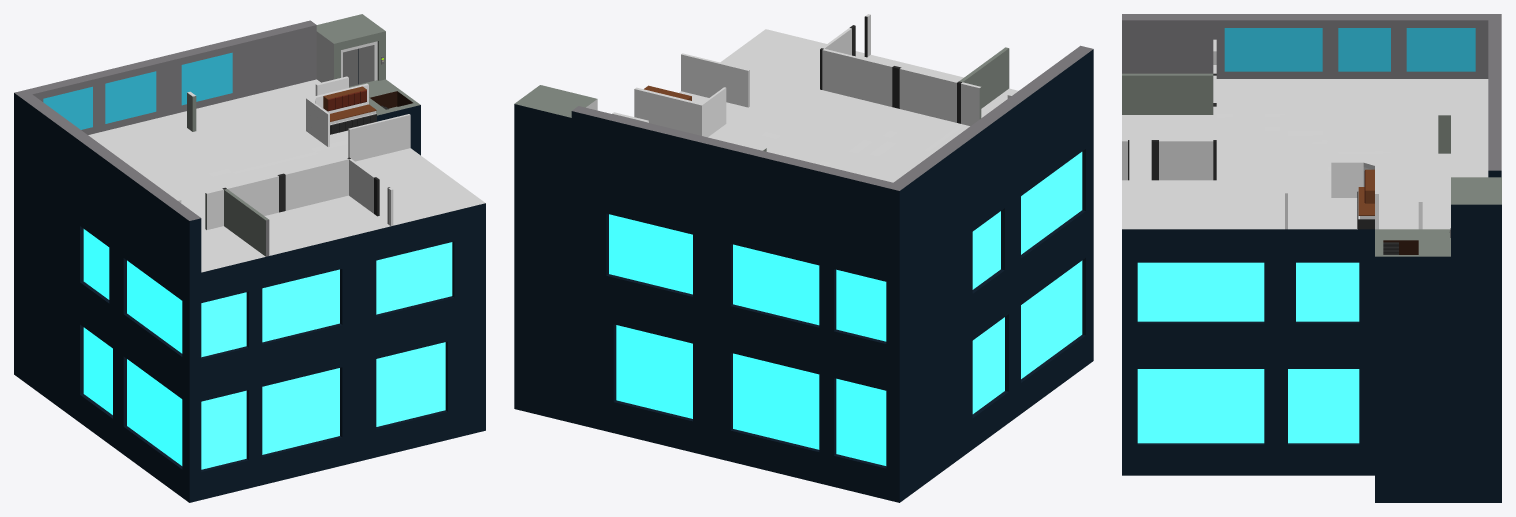
3 renders of one model, left to right at view 1: azimuth 30°, elevation 25°; view 2: azimuth 150°, elevation 25°; view 3: azimuth 270°, elevation 25°, orthographic. The views are drawn at different scales.
Visible parts, largest first — view 1: Cube; view 2: Cube; view 3: Cube.
Boxes of the visible parts, left/top/right/bottom form: Cube: left=14, top=14, right=485, bottom=502; Cube: left=514, top=14, right=1093, bottom=502; Cube: left=1122, top=14, right=1501, bottom=502.
Size of the model in its own units: 17934 by 13868 by 15645.
